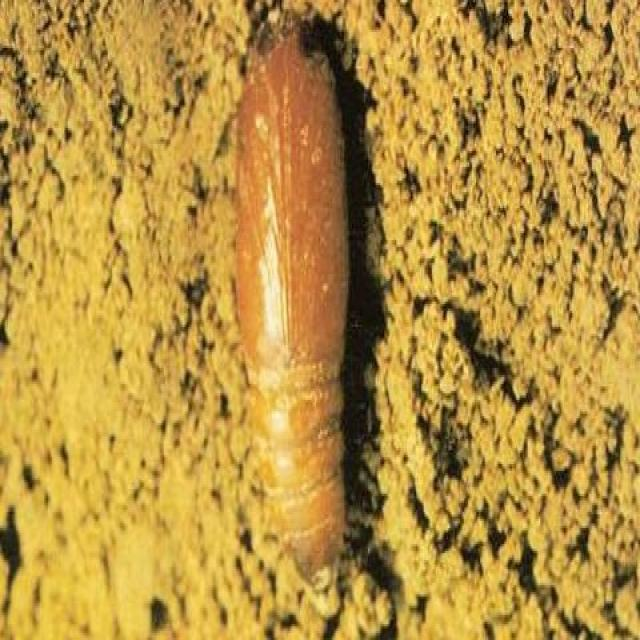black cutworm: (210, 13, 360, 592)
